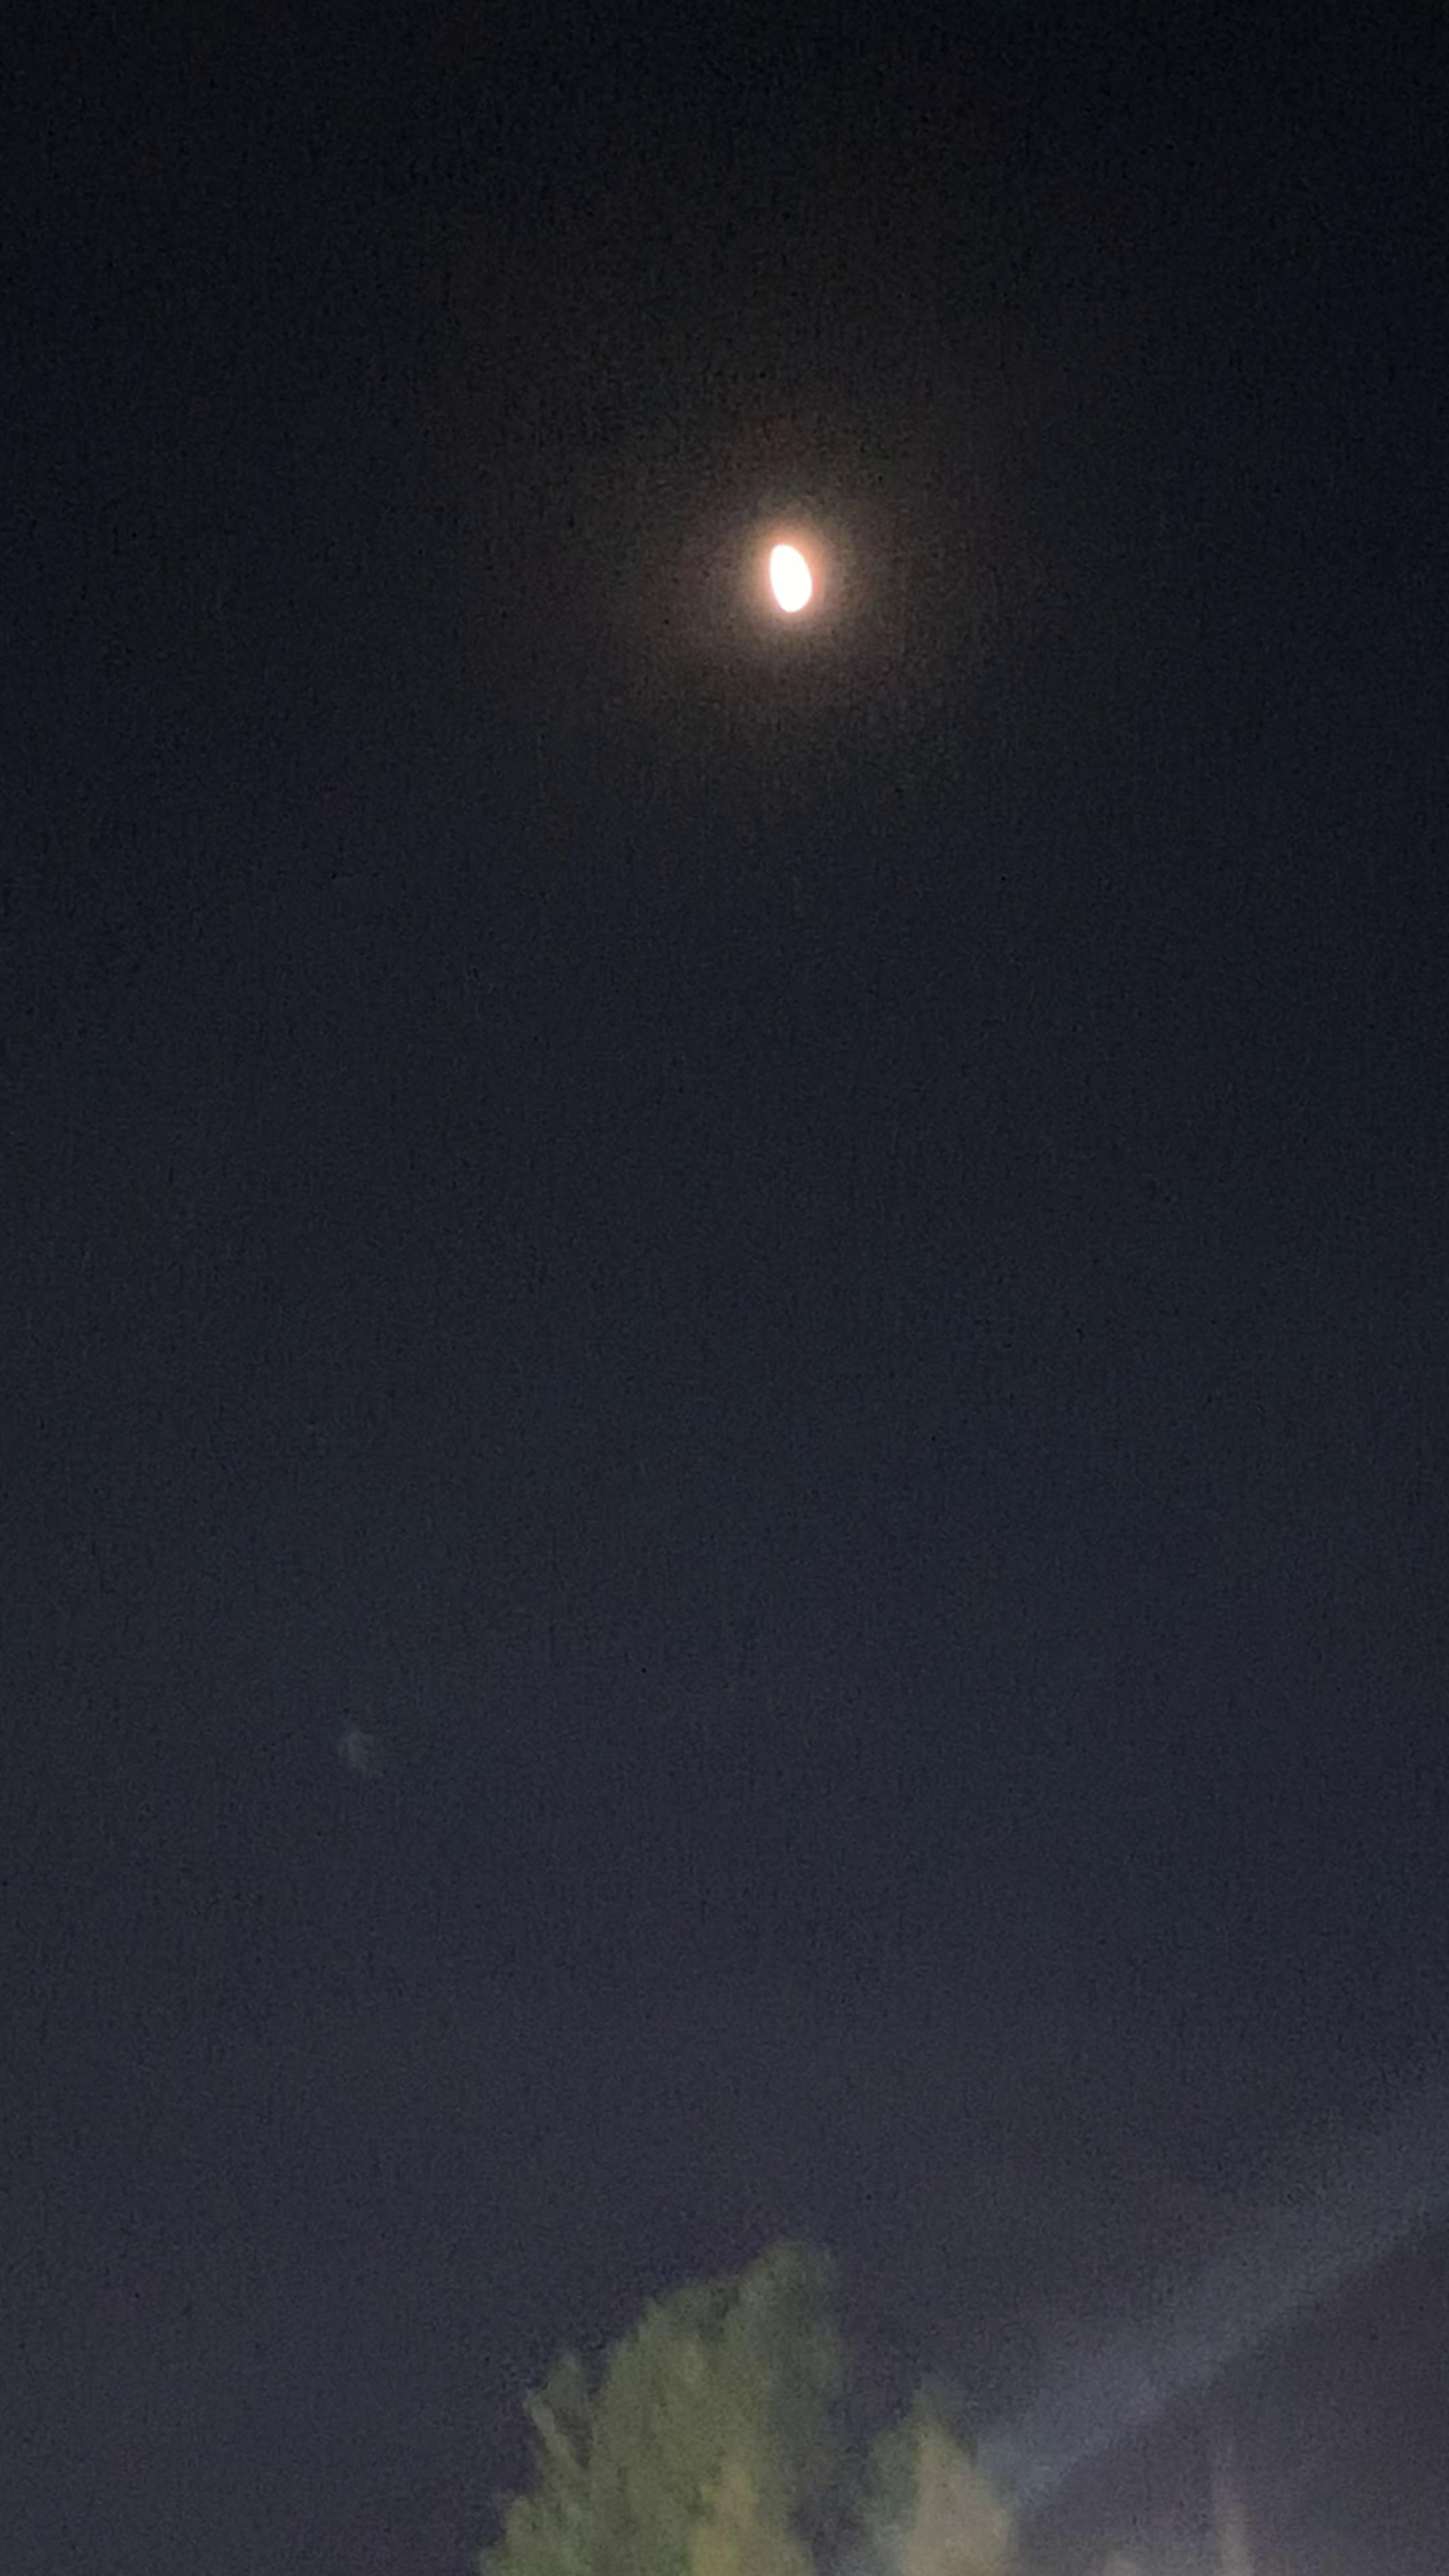moon: (718, 520, 879, 667)
